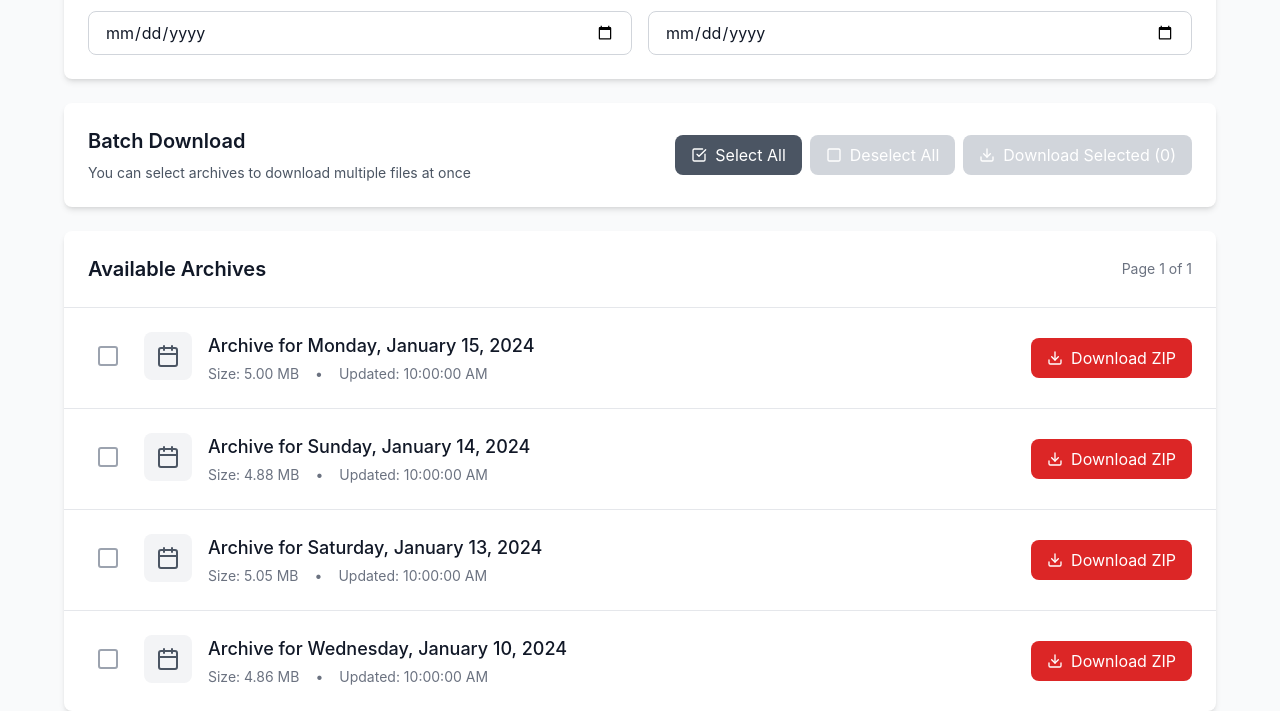
Test case: ArchivesPage › allows selecting individual archives
This screenshot has width=1280, height=711.
(page scrolled)
// Click first archive to select it
Click the button named "Select archive" next to "Archive for Monday, January 15, 2024" at (108, 356), box [88, 336, 128, 376]
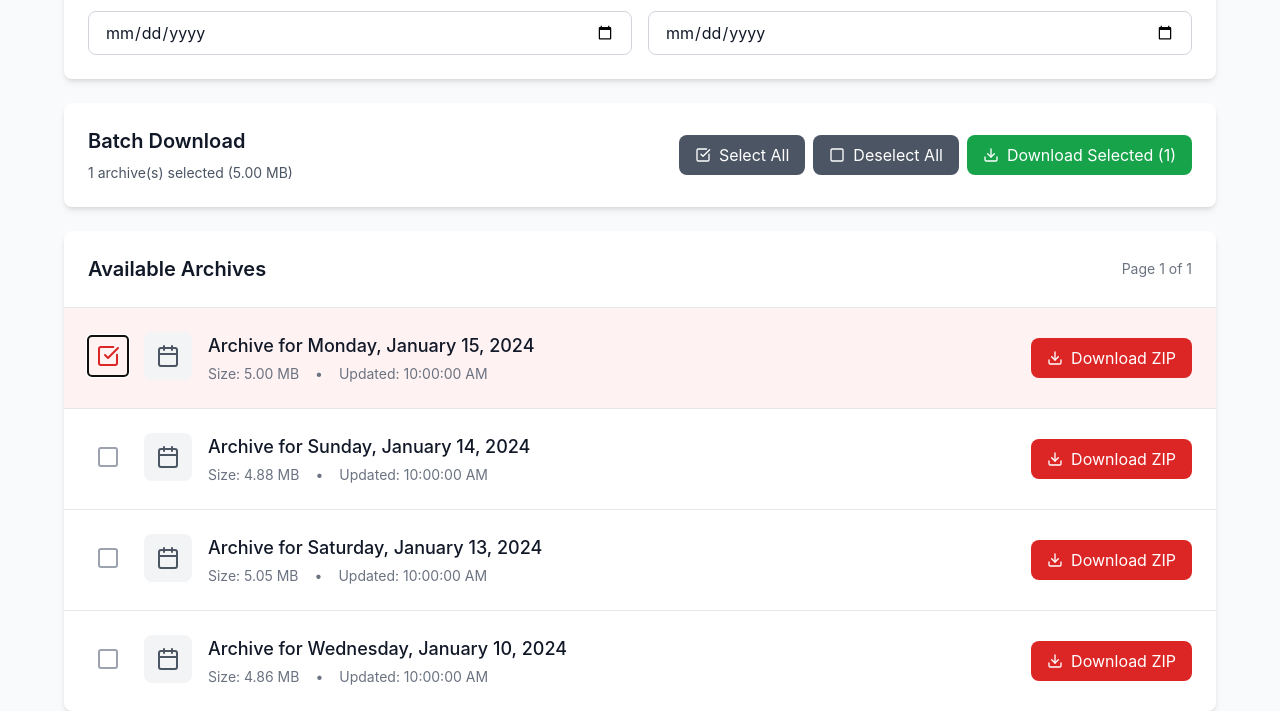
Result: the button "Download Selected (1)" is shown at [967, 135, 1192, 175]
